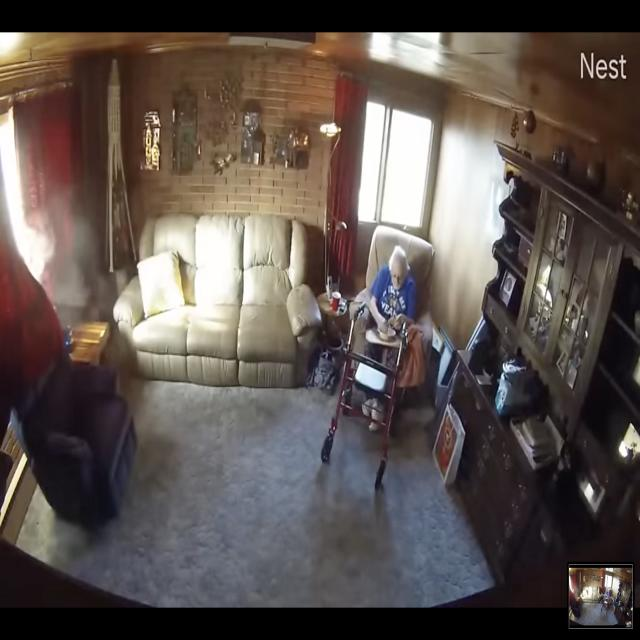Atencao: (11, 127, 145, 373)
